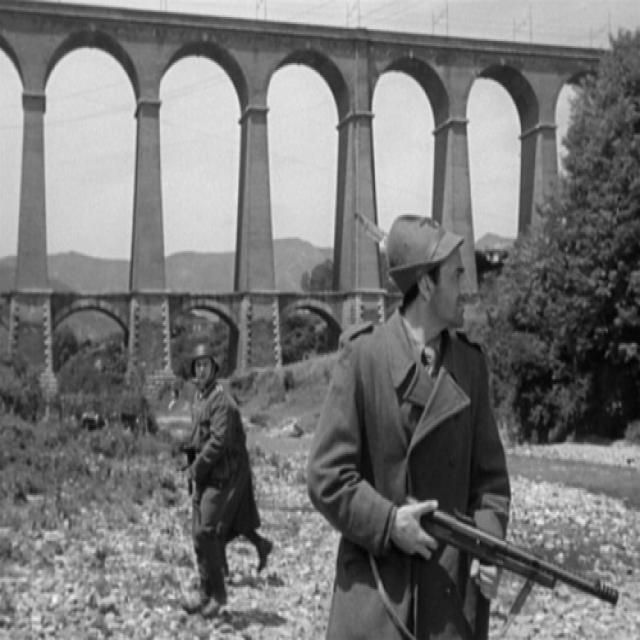rifle: (427, 510, 625, 617)
